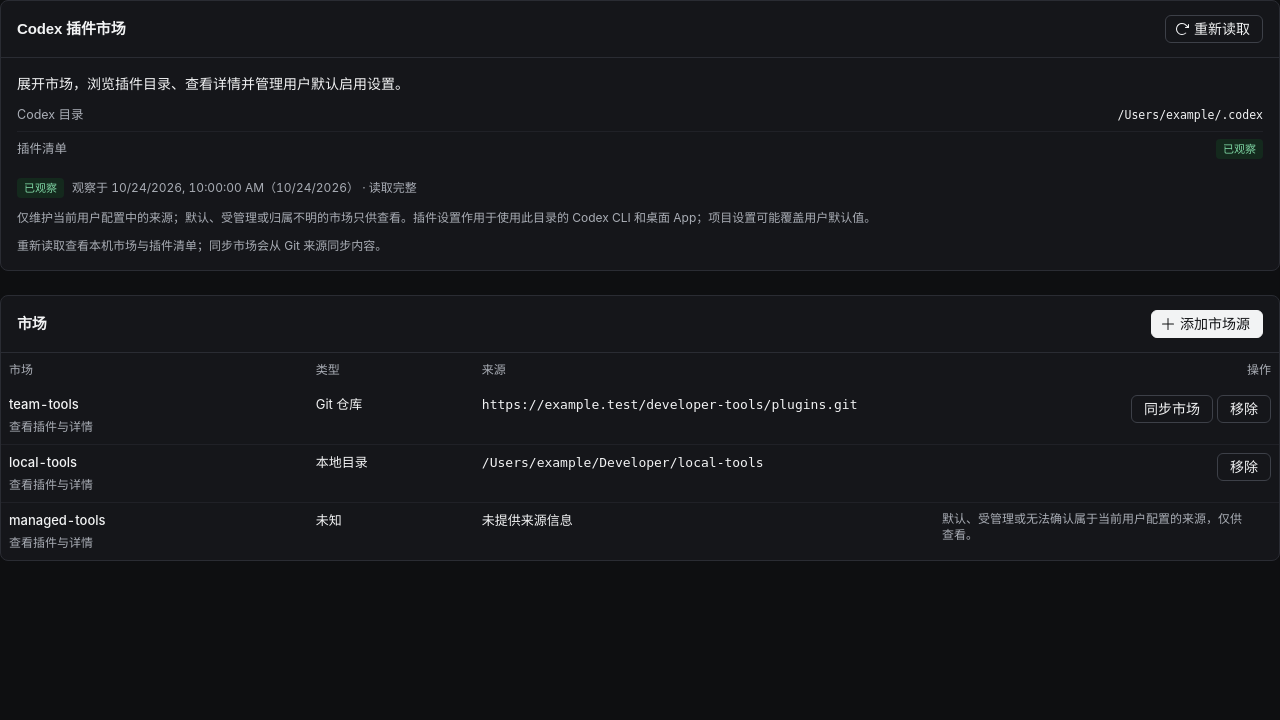
Test: Codex marketplace management › adds only on explicit submit and treats duplicate sources as already existing
Click the button "添加市场源". click: {"x": 1207, "y": 324}
box: [1151,310,1263,338]
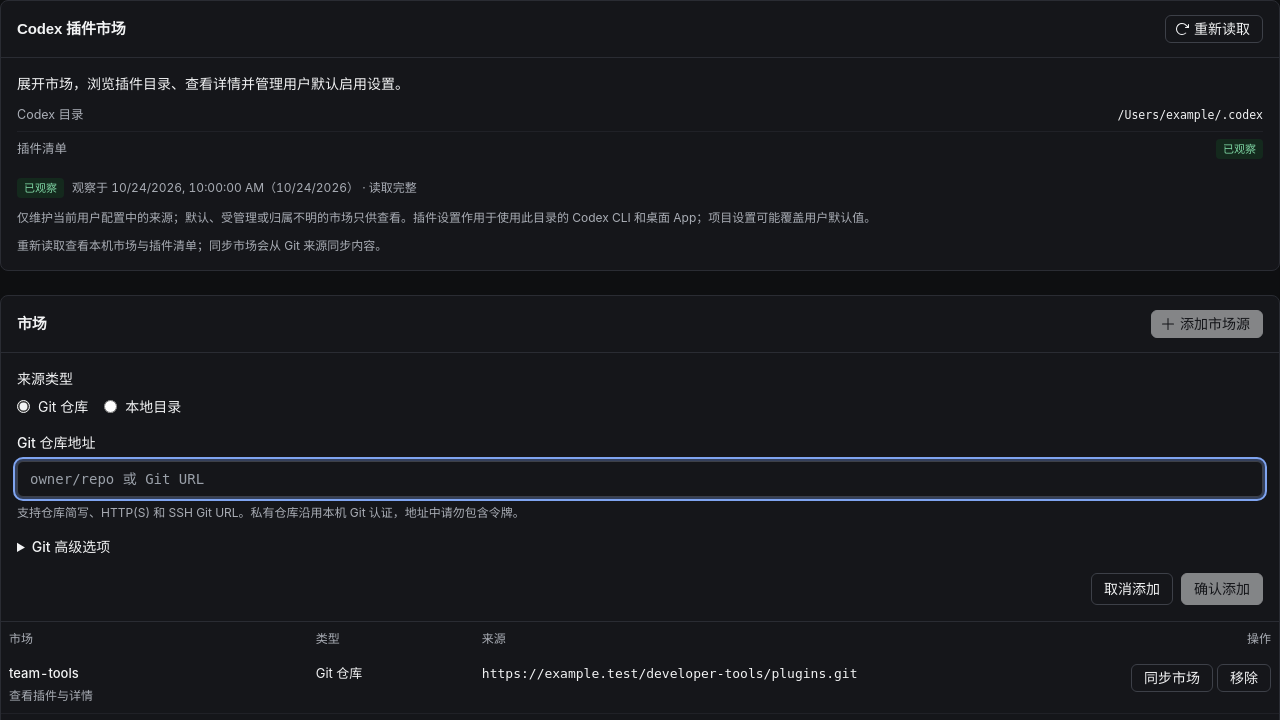
Type "owner/market" into the field labelled "Git 仓库地址". click: {"x": 640, "y": 479}
box: [17,461,1263,497]
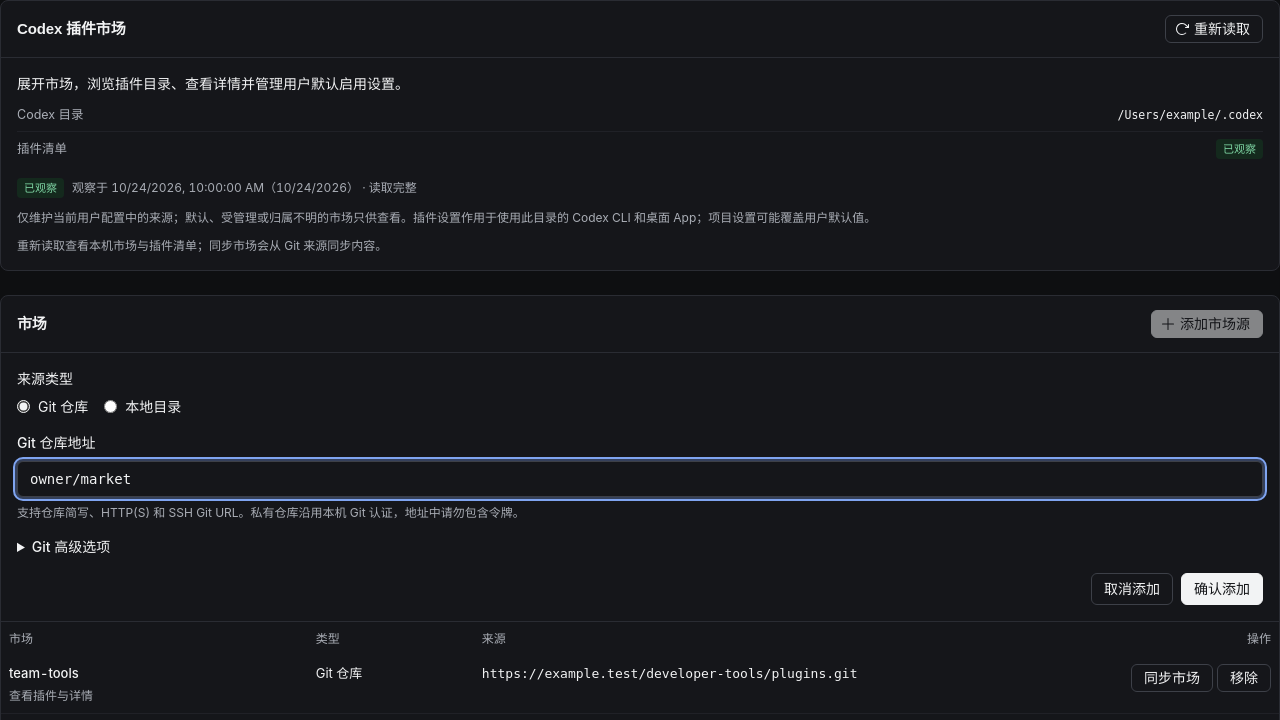
Click the button "确认添加". click: {"x": 1222, "y": 589}
box: [1181,573,1263,605]
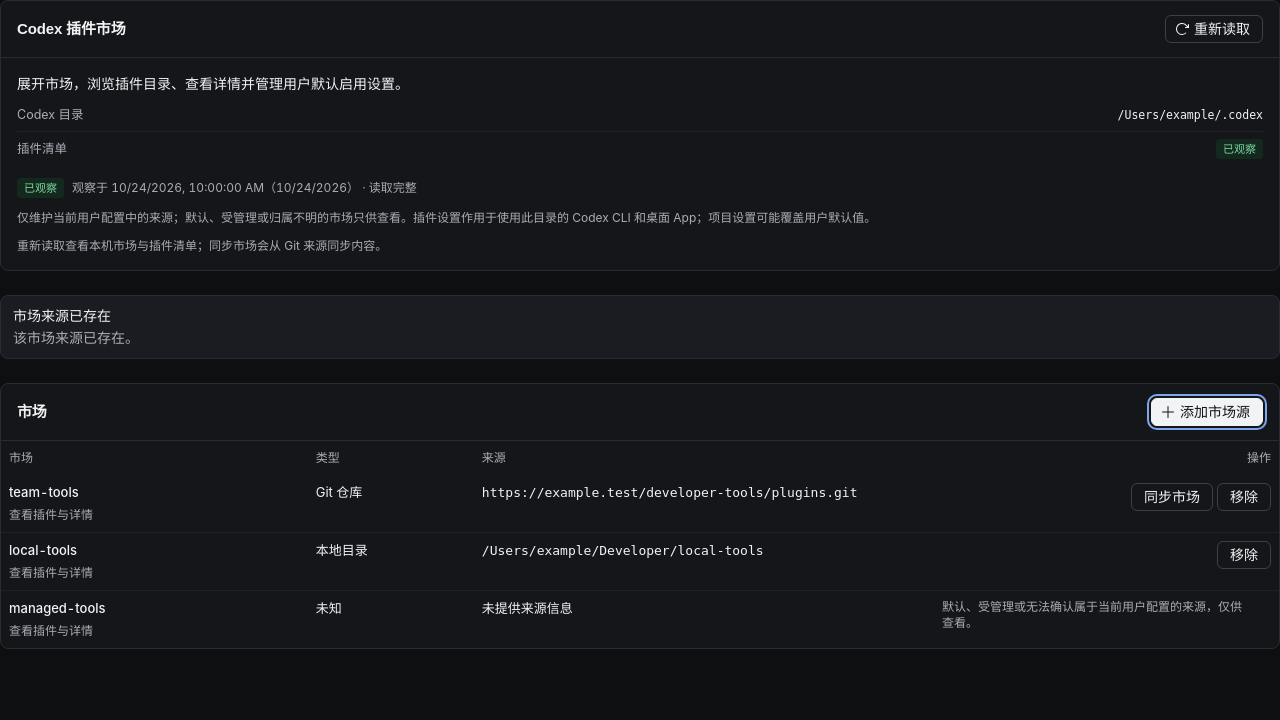
Expected: the text "市场来源已存在" is shown, [13,307,111,324]
